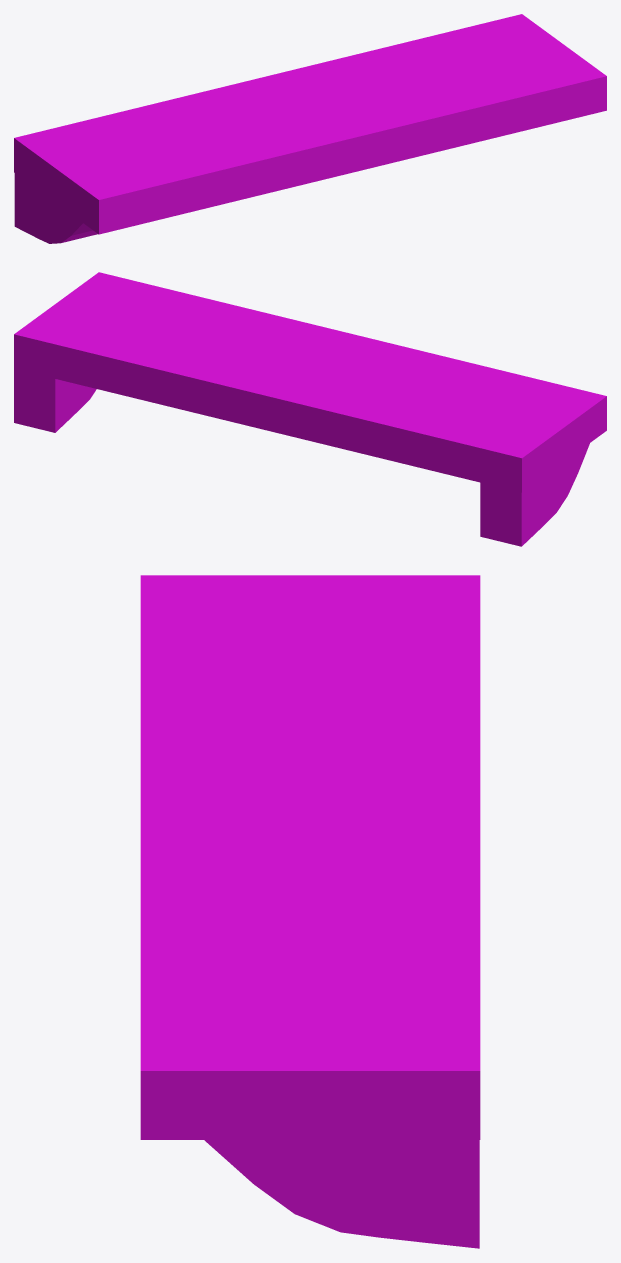
Rendered from MueblePared.obj.
3 renders of one model, top to bottom at view 1: azimuth 30°, elevation 25°; view 2: azimuth 150°, elevation 25°; view 3: azimuth 270°, elevation 25°, orthographic. The views are drawn at different scales.
Visible parts, largest first — view 1: Cube.004_Cube.013; view 2: Cube.004_Cube.013; view 3: Cube.004_Cube.013.
Boxes of the visible parts, x1,y1,x2,y2 form: Cube.004_Cube.013: (14, 14, 606, 243); Cube.004_Cube.013: (14, 272, 606, 546); Cube.004_Cube.013: (140, 575, 480, 1248).
Size of the model in its own units: 14.3 by 2.39 by 4.14.
Materials: 1 (1 with a texture image).
